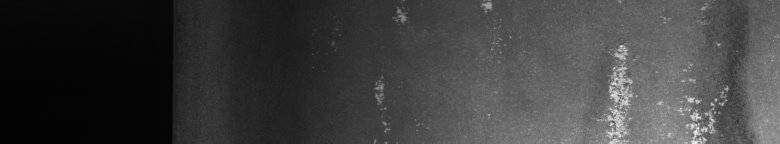hc: (601, 4, 735, 136)
